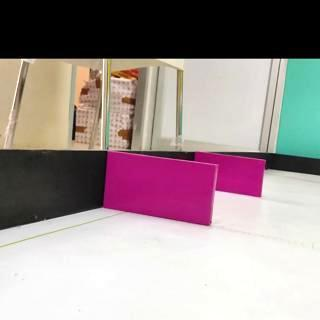xparking: (103, 151, 215, 225), (217, 153, 264, 197)
